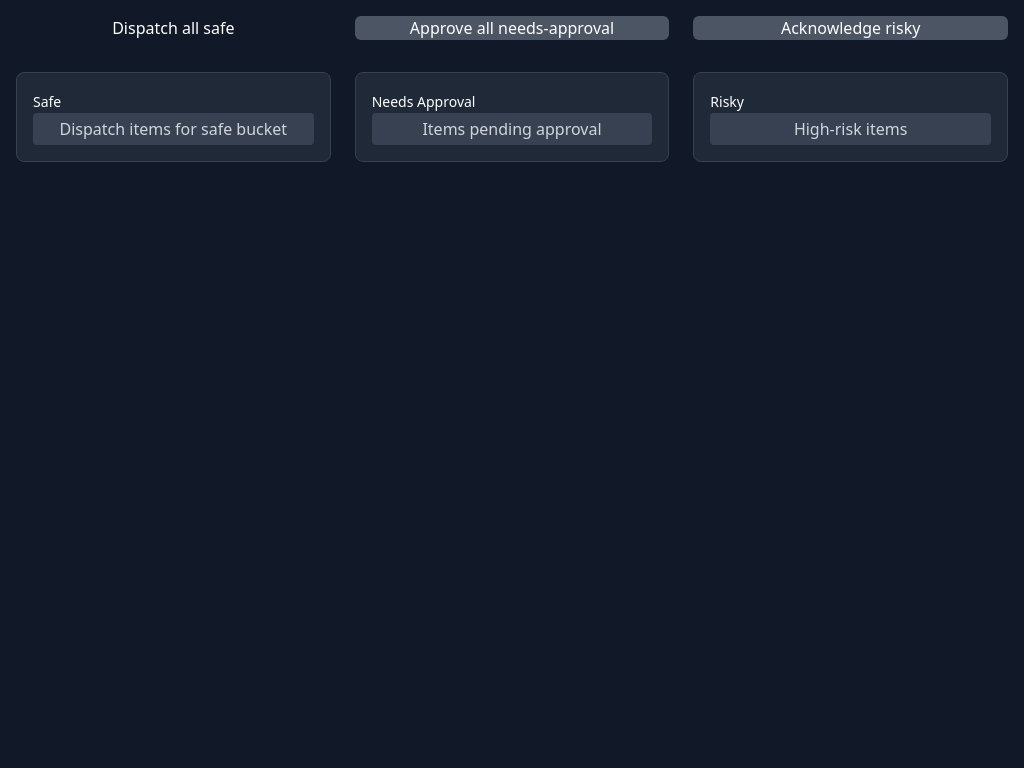
Test: AutopilotPage › opens the action details popover for an action
Click the button "Items pending approval" at (512, 129), box x1=372 y1=113 x2=652 y2=145
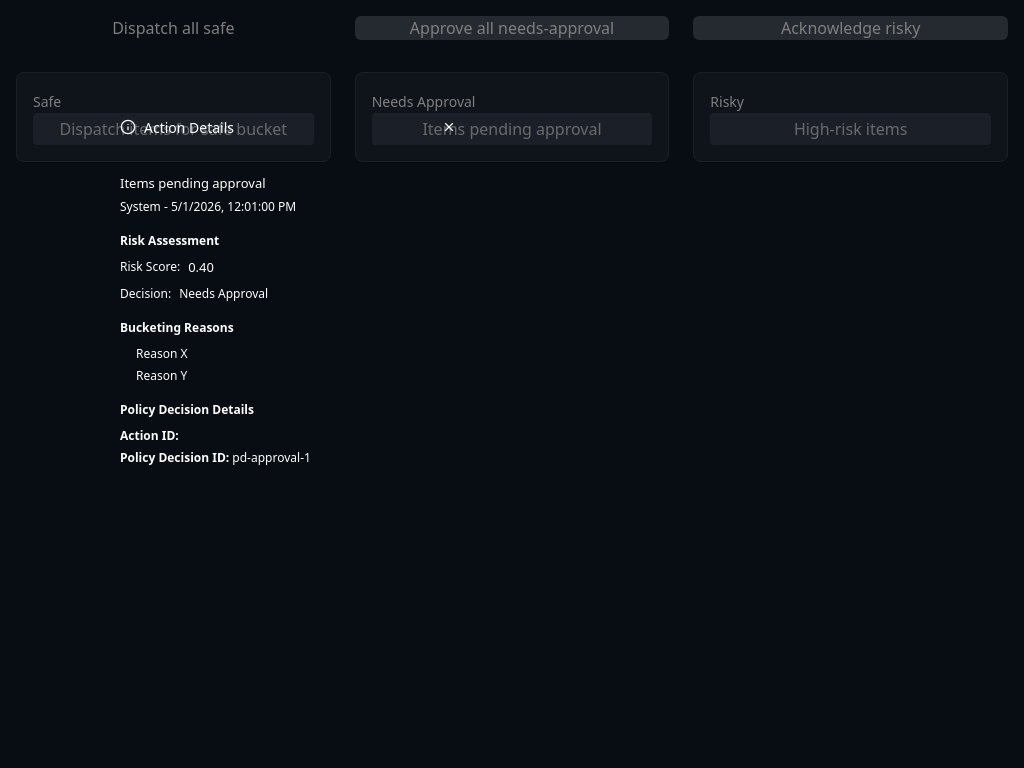
Check: the number of buttons "Items pending approval" is 2, box x1=372 y1=113 x2=652 y2=145; x1=120 y1=174 x2=266 y2=192
Check: the heading "Action Details" is shown, box x1=144 y1=116 x2=234 y2=138
